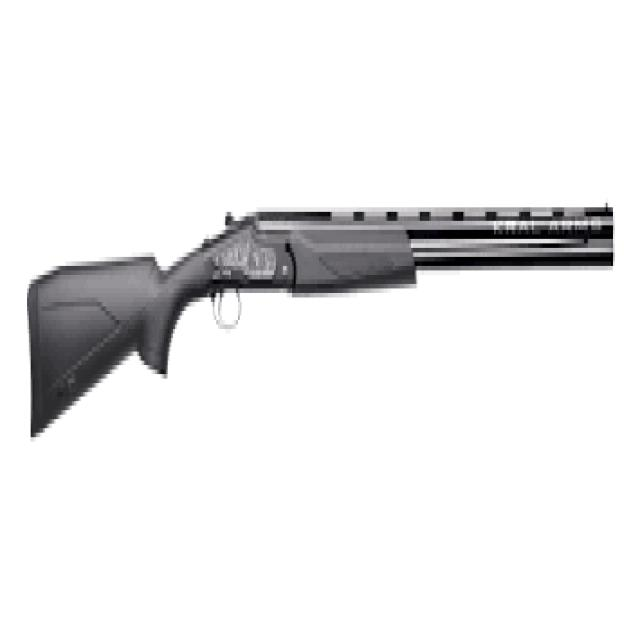rifle: (16, 180, 618, 451)
